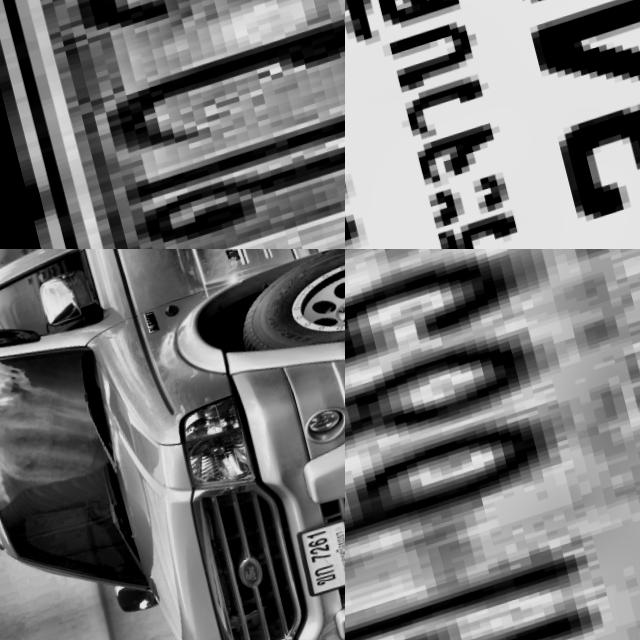license-plate: (345, 249, 640, 640), (0, 0, 345, 249), (345, 0, 640, 249), (288, 520, 345, 608)
